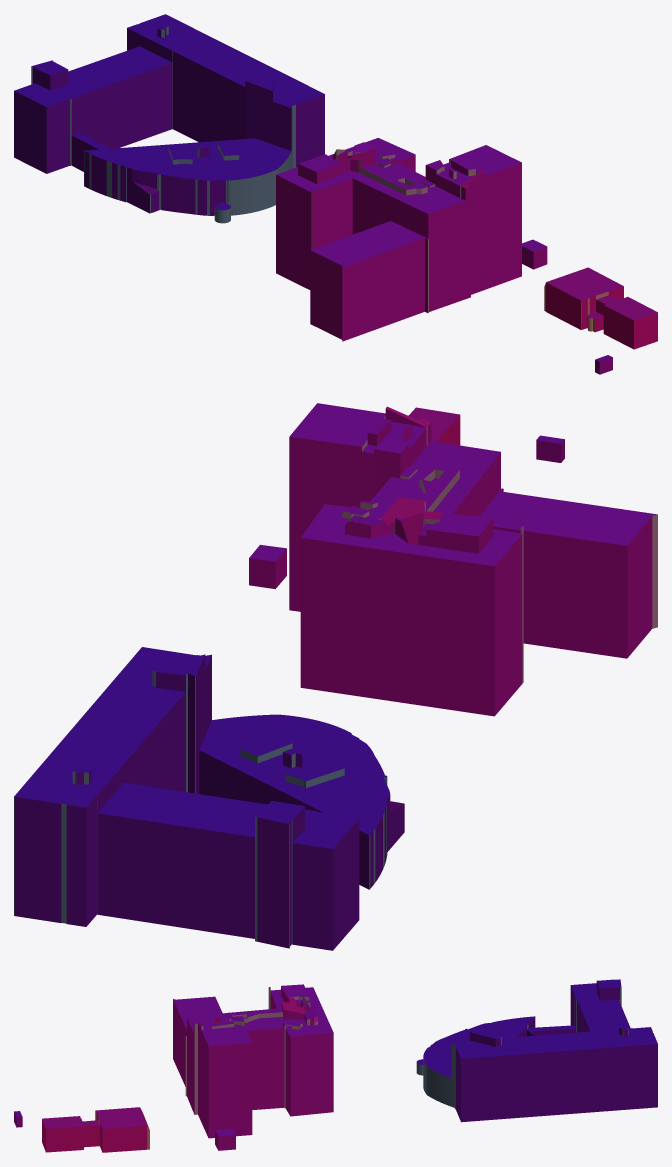
Rendered from buildings_8_5.glb.
3 renders of one model, top to bottom at view 1: azimuth 30°, elevation 25°; view 2: azimuth 150°, elevation 25°; view 3: azimuth 270°, elevation 25°, orthographic. The views are drawn at different scales.
Parts seen in each view (by area): view 1: buildings_8_5; view 2: buildings_8_5; view 3: buildings_8_5.
Boxes of the visible parts, x1,y1,x2,y2 form: buildings_8_5: (14, 14, 657, 374); buildings_8_5: (14, 403, 657, 950); buildings_8_5: (14, 979, 657, 1152).
Bounding box in the file's own units: 90.42 × 34.69 × 211.
